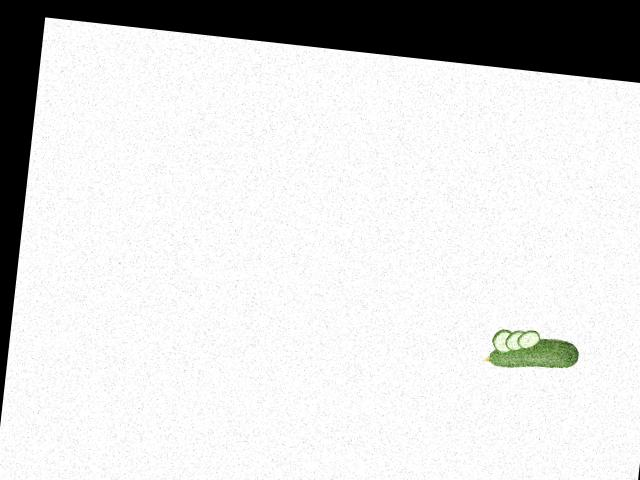cucumber: (483, 331, 581, 374)
